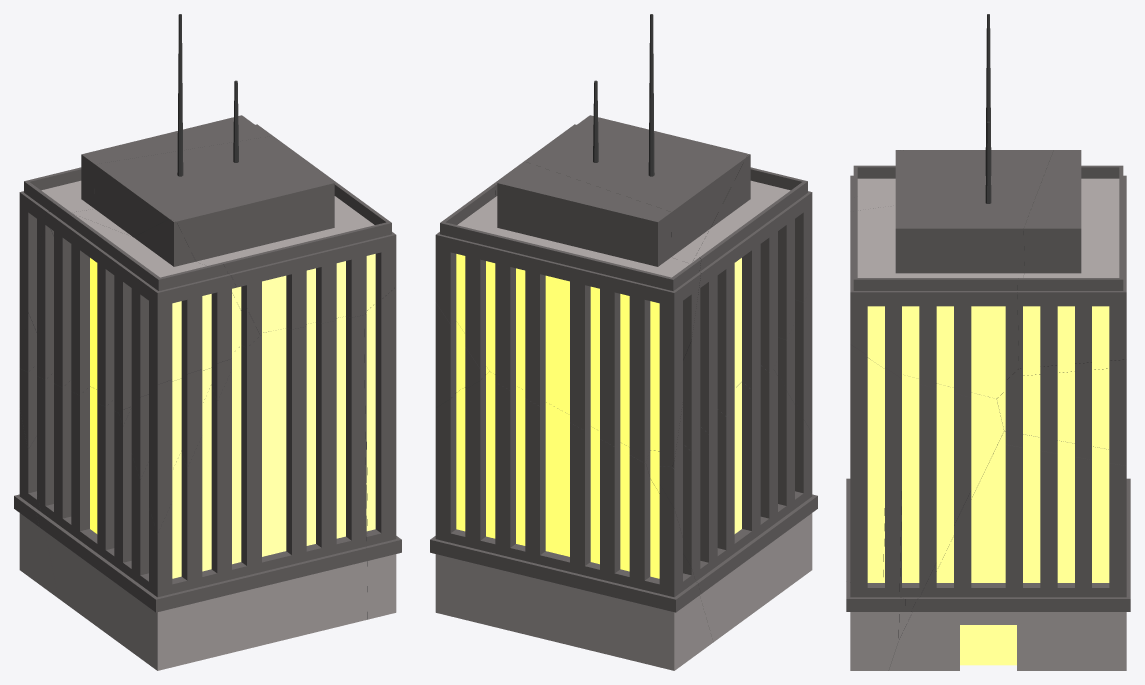
File: fractured_building2.glb
3 views of the same model, side by side, from view 1: azimuth 30°, elevation 25°; view 2: azimuth 150°, elevation 25°; view 3: azimuth 270°, elevation 25° (orthographic).
Visible parts, largest first — view 1: Edificio.001_cell.004, Edificio.001_cell.010, Edificio.001_cell, Edificio.001_cell.001, Edificio.001_cell.005, Edificio.001_cell.003, Edificio.001_cell.002, Edificio.001_cell.011; view 2: Edificio.001_cell.002, Edificio.001_cell.005, Edificio.001_cell.004, Edificio.001_cell, Edificio.001_cell.010, Edificio.001_cell.003, Edificio.001_cell.008, Edificio.001_cell.011; view 3: Edificio.001_cell.002, Edificio.001_cell.010, Edificio.001_cell.005, Edificio.001_cell.001, Edificio.001_cell.004, Edificio.001_cell.008, Edificio.001_cell, Edificio.001_cell.011, Edificio.001_cell.007.
Boxes of the visible parts, x1,y1,x2,y2 form: Edificio.001_cell.004: [19, 315, 367, 670]; Edificio.001_cell.010: [72, 136, 396, 335]; Edificio.001_cell: [19, 202, 260, 412]; Edificio.001_cell.001: [366, 287, 401, 619]; Edificio.001_cell.005: [19, 115, 309, 358]; Edificio.001_cell.003: [131, 358, 231, 533]; Edificio.001_cell.002: [14, 409, 58, 598]; Edificio.001_cell.011: [177, 14, 183, 176]; Edificio.001_cell.002: [430, 372, 713, 670]; Edificio.001_cell.005: [435, 162, 701, 466]; Edificio.001_cell.004: [645, 365, 817, 642]; Edificio.001_cell: [672, 154, 812, 468]; Edificio.001_cell.010: [493, 115, 747, 263]; Edificio.001_cell.003: [778, 284, 812, 432]; Edificio.001_cell.008: [435, 302, 489, 407]; Edificio.001_cell.011: [648, 14, 654, 176]; Edificio.001_cell.002: [888, 431, 1130, 670]; Edificio.001_cell.010: [850, 150, 1053, 398]; Edificio.001_cell.005: [1017, 150, 1126, 375]; Edificio.001_cell.001: [846, 344, 905, 670]; Edificio.001_cell.004: [846, 374, 1004, 640]; Edificio.001_cell.008: [997, 359, 1126, 465]; Edificio.001_cell: [850, 150, 903, 211]; Edificio.001_cell.011: [985, 14, 991, 175]; Edificio.001_cell.007: [985, 121, 991, 203].
Bounding box in the file's own units: 4.98 × 11.29 × 4.98.
